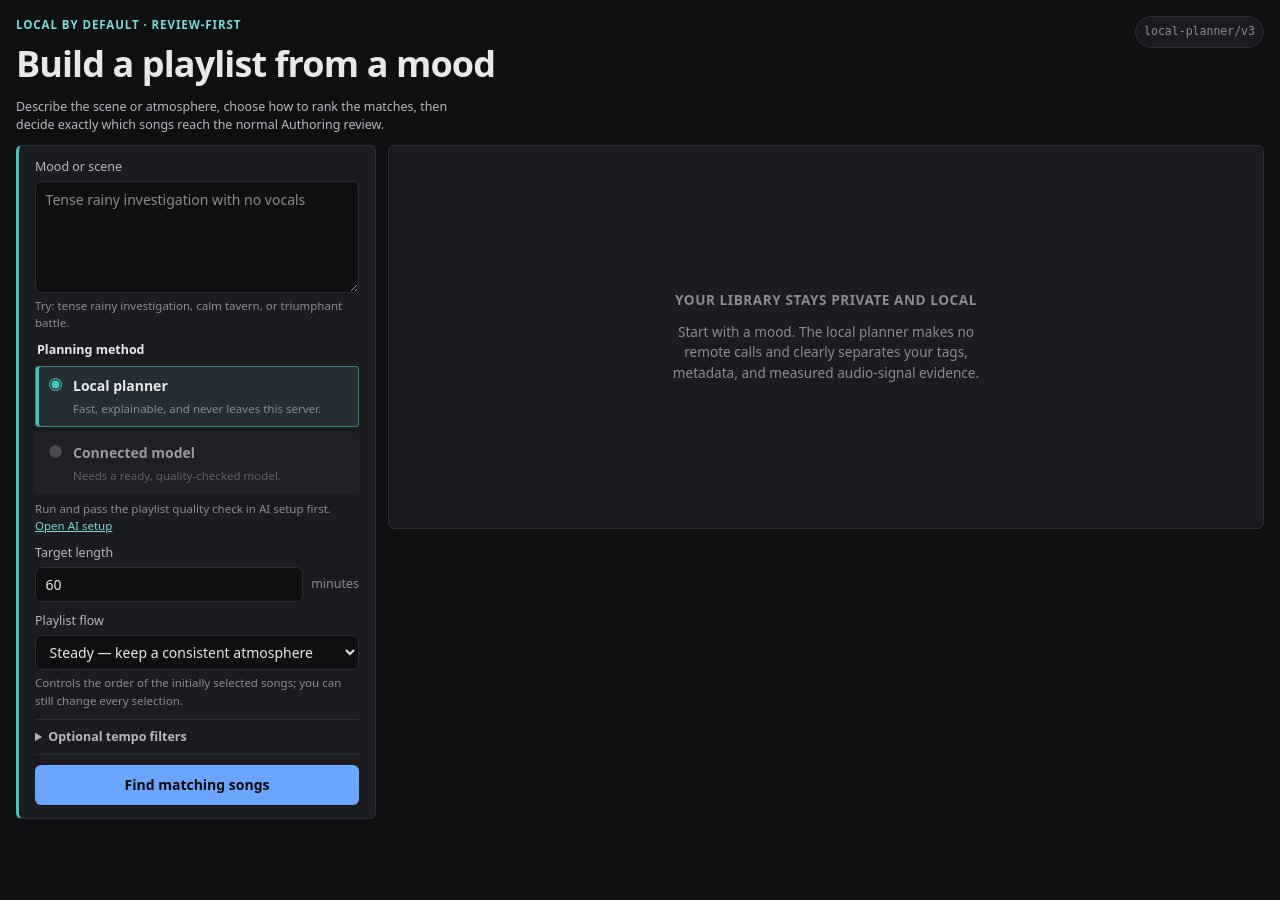
Test: PlaylistBuilderView › shows a recoverable error when local ranking fails
Type "calm tavern" into the text box labelled "Mood or scene" at (197, 237), box [35,181,359,293]
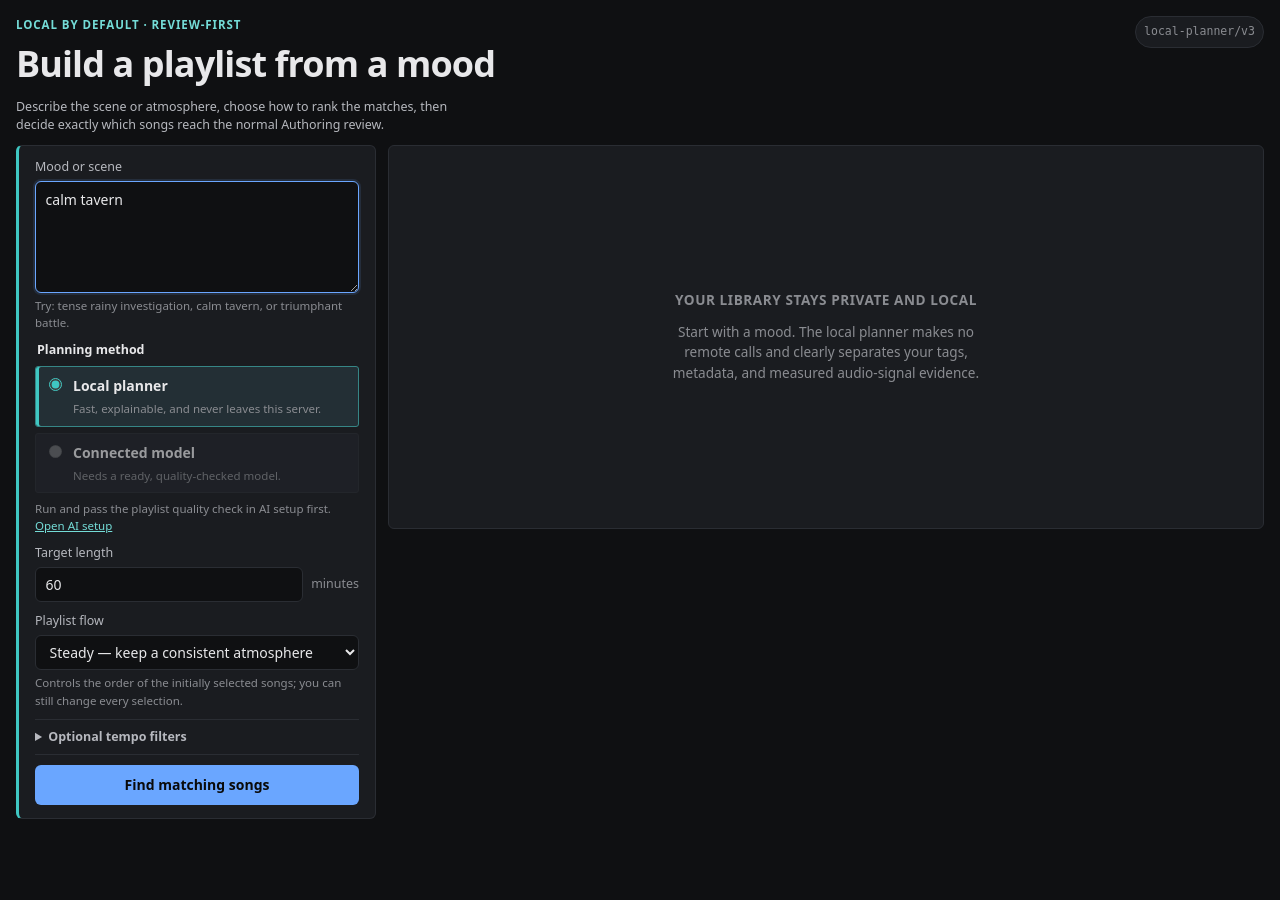
Click the button "Find matching songs" at (197, 785), box [35,765,359,805]
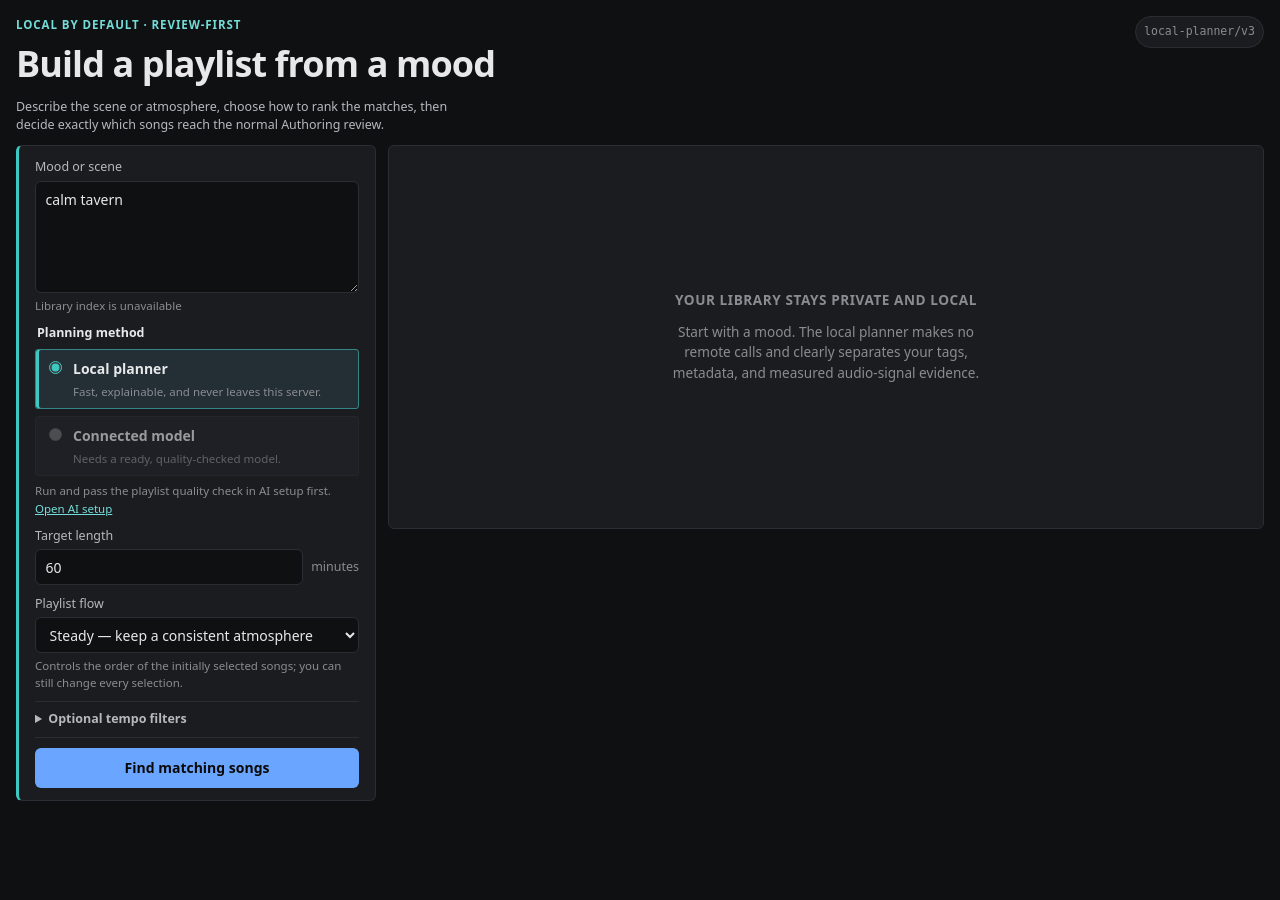
Check: the button "Find matching songs" is enabled, box [35,748,359,788]
Check: the text "Library index is unavailable" is shown, box [35,298,182,313]
